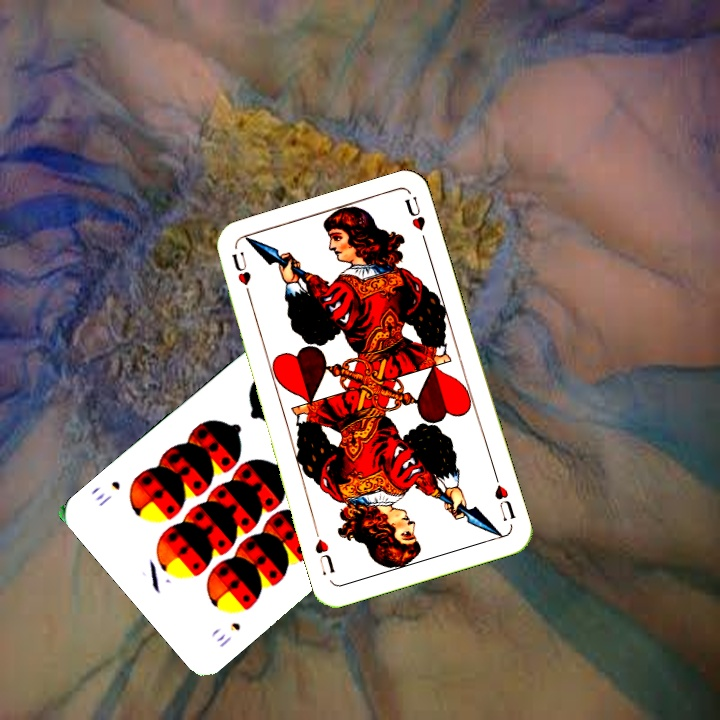HU: (227, 248, 255, 304), (490, 470, 518, 524)
S10: (212, 618, 243, 651)
